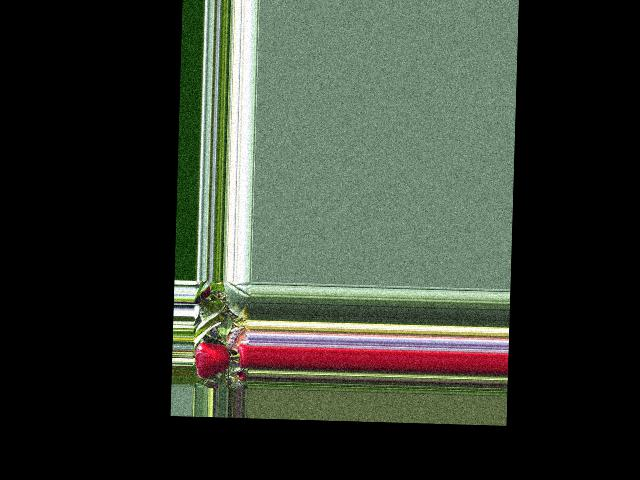bell_pepper: (234, 341, 250, 369)
